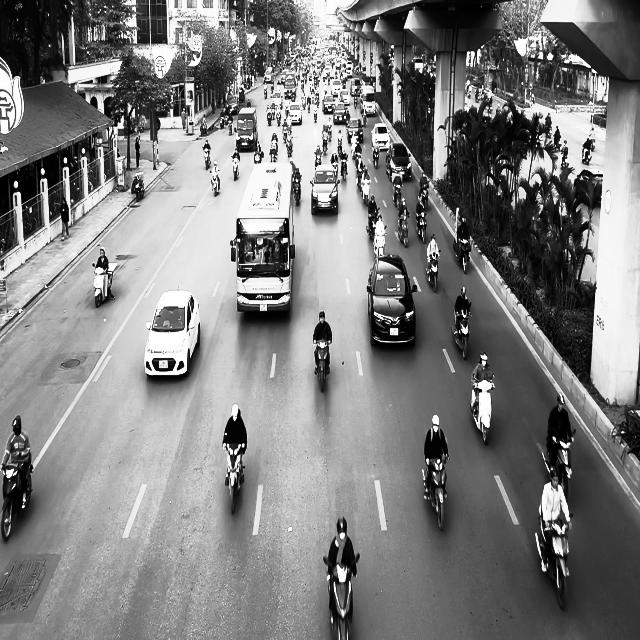bus: (230, 161, 295, 314)
car: (144, 288, 201, 378), (366, 253, 418, 347), (310, 164, 339, 215), (573, 168, 603, 204), (385, 142, 412, 182), (371, 122, 390, 150), (346, 118, 364, 144), (288, 102, 302, 124), (333, 102, 347, 124), (322, 95, 335, 113)
motorbike: (535, 502, 573, 610), (323, 553, 359, 639), (541, 428, 576, 504), (1, 460, 33, 540), (422, 454, 449, 530), (469, 373, 495, 445), (224, 443, 245, 514), (451, 302, 472, 359), (92, 262, 117, 308), (314, 339, 331, 392), (425, 250, 441, 292), (455, 237, 471, 274), (396, 211, 410, 247), (373, 225, 387, 258), (416, 210, 427, 243), (292, 174, 302, 206), (209, 170, 220, 196), (134, 174, 144, 200), (392, 183, 402, 209), (231, 154, 240, 181), (582, 141, 592, 164), (372, 142, 379, 168), (269, 142, 278, 162), (202, 147, 210, 169)
